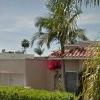Tree: (28, 1, 100, 48)
